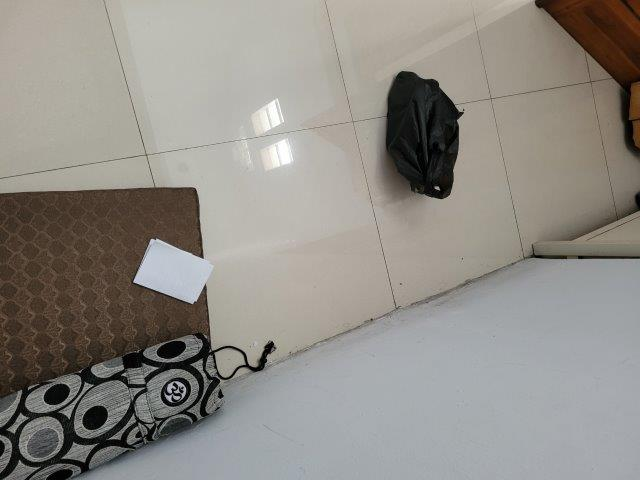kertas: (132, 238, 214, 304)
plastik: (385, 69, 461, 205)
